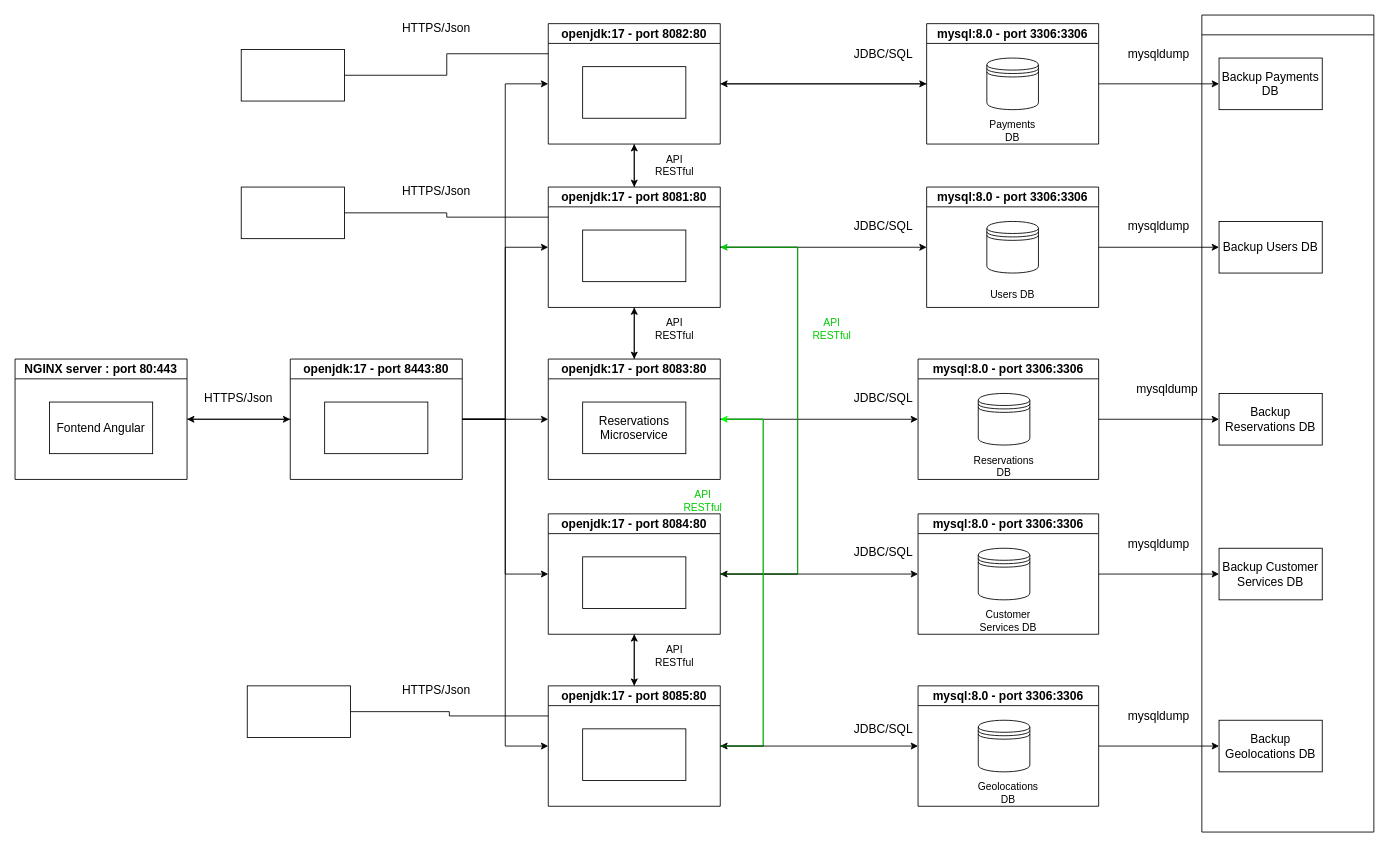
Some shapes in this 1389 by 847 pixel diagram are drawn without their labels. Each missing label, with the centre of its shape:
AWS S3 (cloud Storage): the point at 1287,423
Customer Service Microservice: the point at 634,582
Geolactions Microservice: the point at 634,754
Google Maps (third-party geolocalisation service): the point at 298,711
OAuth2 (third-party services): the point at 292,212
Payment Microservice: the point at 634,92
Spring Cloud Gateway: the point at 376,427
STRIPE / PAYPAL (third-party service): the point at 292,75
Users Microservice: the point at 634,255
